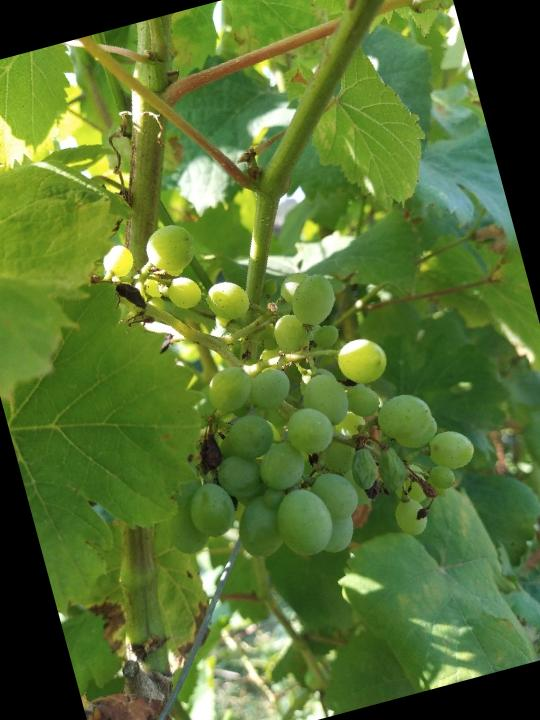grape: (94, 160, 495, 602)
